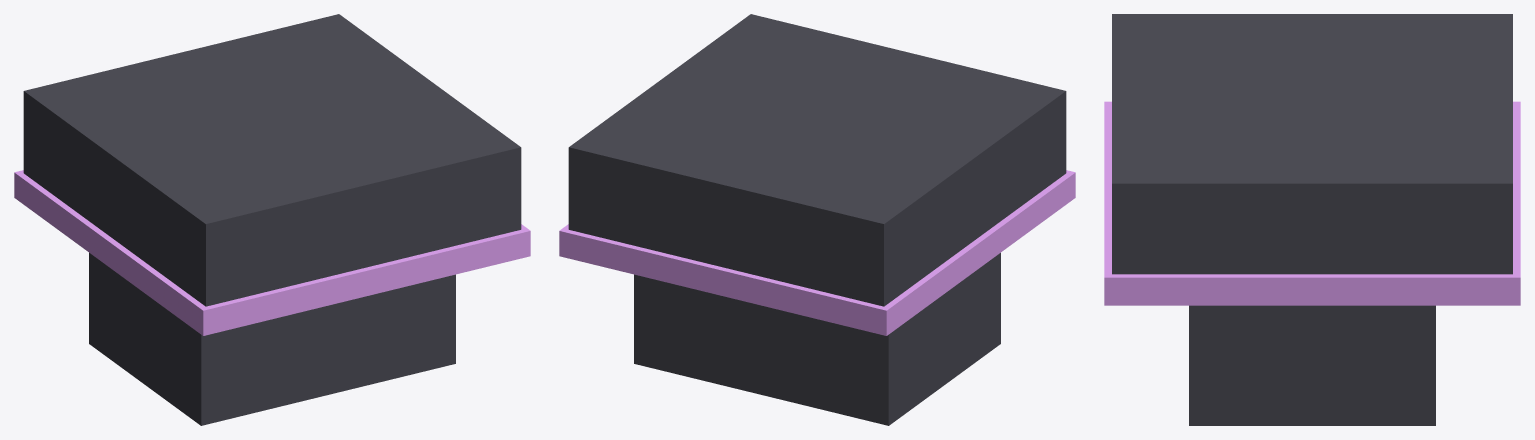
Rendered from luvas_dj.glb.
The picture shows the model from 3 angles, left to right: view 1: azimuth 30°, elevation 25°; view 2: azimuth 150°, elevation 25°; view 3: azimuth 270°, elevation 25°; orthographic projection. The views are drawn at different scales.
Parts seen in each view (by area): view 1: luvas_dj; view 2: luvas_dj; view 3: luvas_dj.
Part boxes in pixels (x1,y1,x2,y2): luvas_dj: [14, 14, 530, 425]; luvas_dj: [559, 14, 1075, 425]; luvas_dj: [1104, 14, 1520, 425].
Size of the model in its own units: 0.27 by 0.185 by 0.27.
